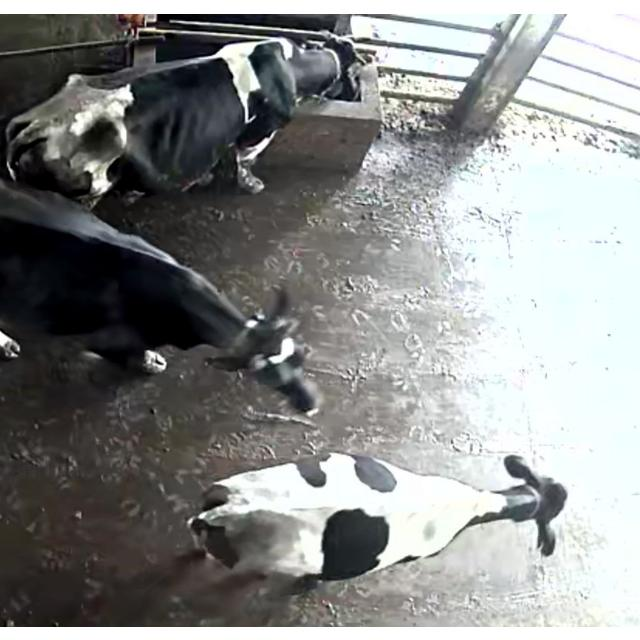drink: (241, 17, 399, 134)
